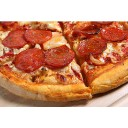pepperonipizza: (1, 21, 128, 98)
